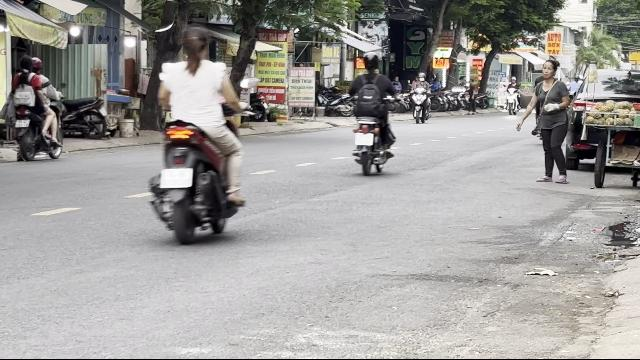helmet: (361, 50, 379, 72), (30, 56, 42, 72)
licenseplate: (160, 168, 193, 188), (354, 132, 374, 146), (15, 119, 30, 127)
motorcyclist: (149, 25, 249, 244), (6, 54, 64, 162), (348, 50, 398, 174)
nohelmet: (179, 27, 209, 65), (18, 56, 34, 72)
